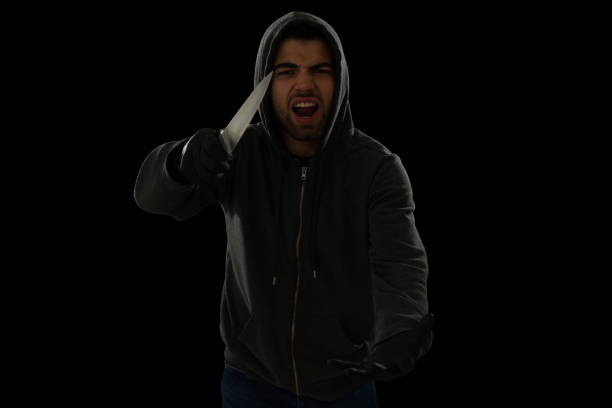knife: (215, 69, 276, 160)
